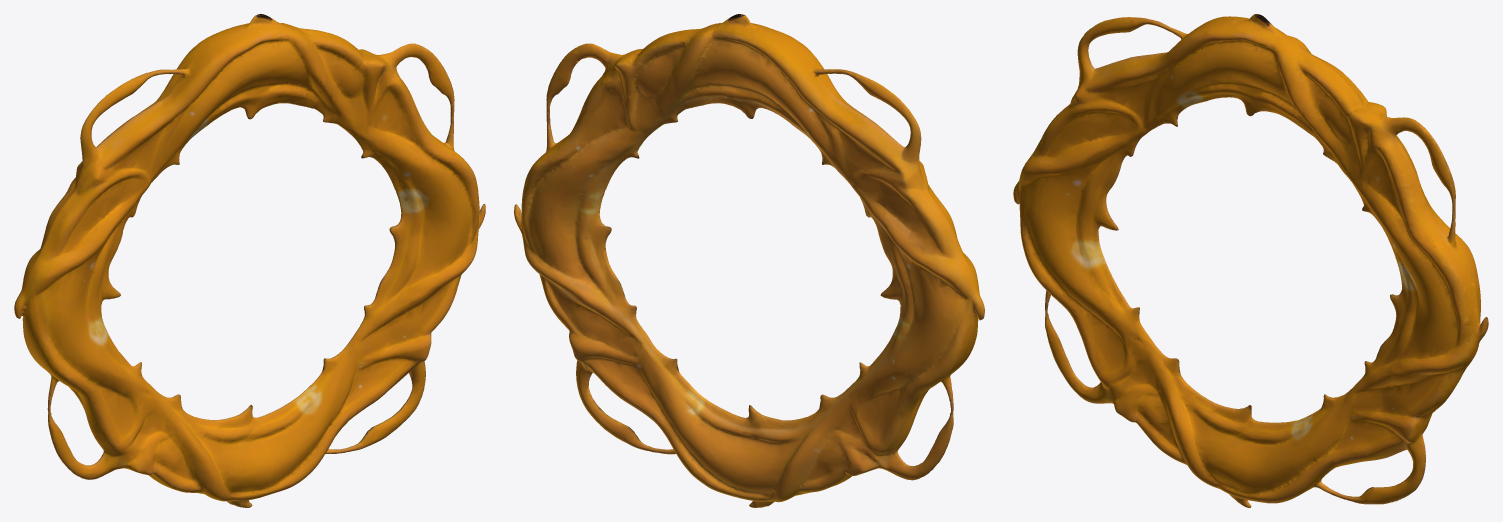
The model's file is SoulOrb_Ring_Outer.glb.
The picture shows the model from 3 angles, left to right: view 1: azimuth 30°, elevation 25°; view 2: azimuth 150°, elevation 25°; view 3: azimuth 330°, elevation 25°; orthographic projection.
Parts seen in each view (by area): view 1: Mesh1.0; view 2: Mesh1.0; view 3: Mesh1.0.
Part boxes in pixels (bbox=[...]): Mesh1.0: bbox=[14, 14, 485, 507]; Mesh1.0: bbox=[514, 14, 984, 507]; Mesh1.0: bbox=[1013, 14, 1488, 507].
Bounding box in the file's own units: 2.01 × 2 × 0.1891.
Materials: 1 (1 with a texture image).
